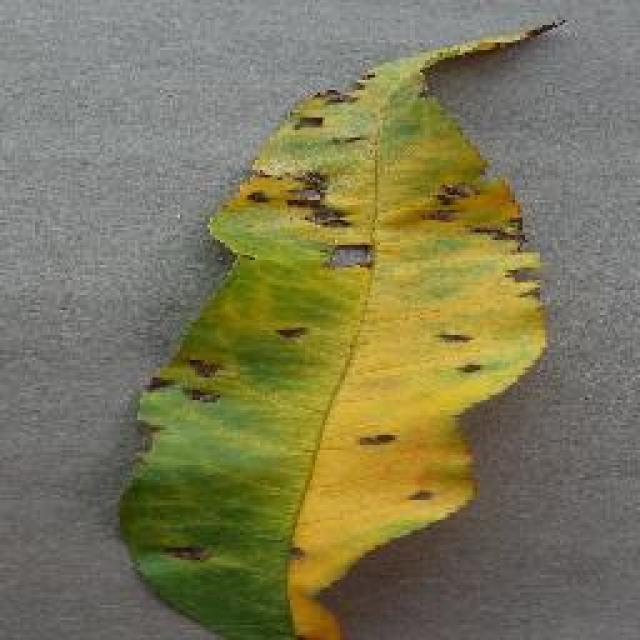Peach_Bacterial_Spot: (257, 72, 573, 443)
